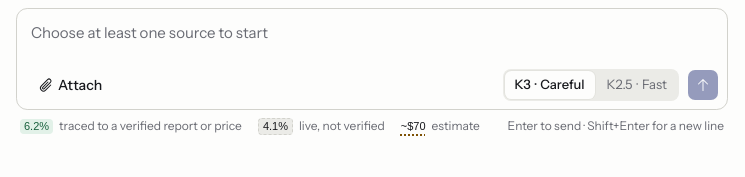
Composer › refuses to send with nothing attached, and says why
Type "Anything?" into the text box named "Ask about the attached usage" at (372, 37), box [17,9,727,65]
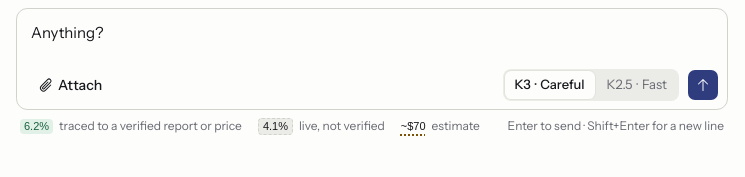
Click the button named "Send question" at (703, 85), box [687,69,719,101]
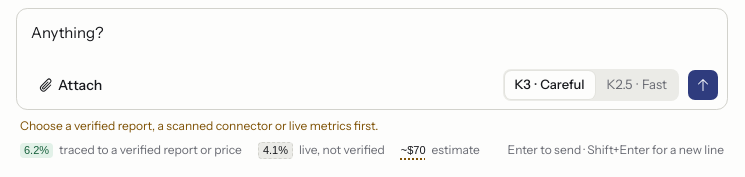
Expected: the message shows "Choose a verified report", [20,118,378,133]
